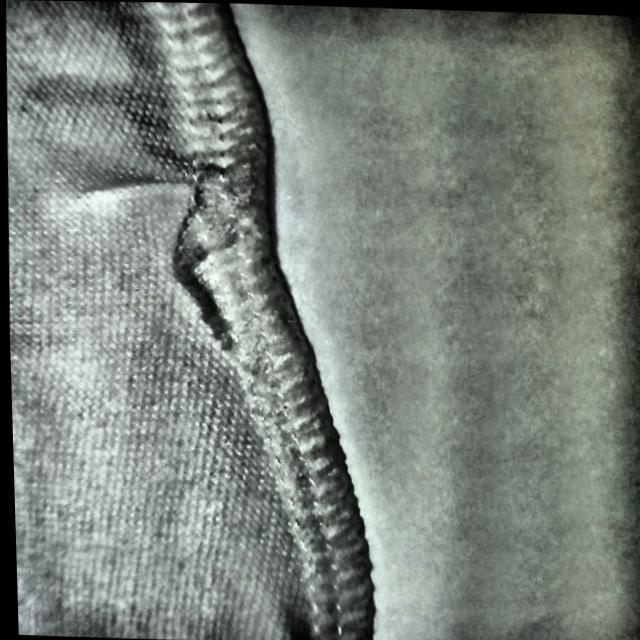seam: (99, 119, 278, 344)
